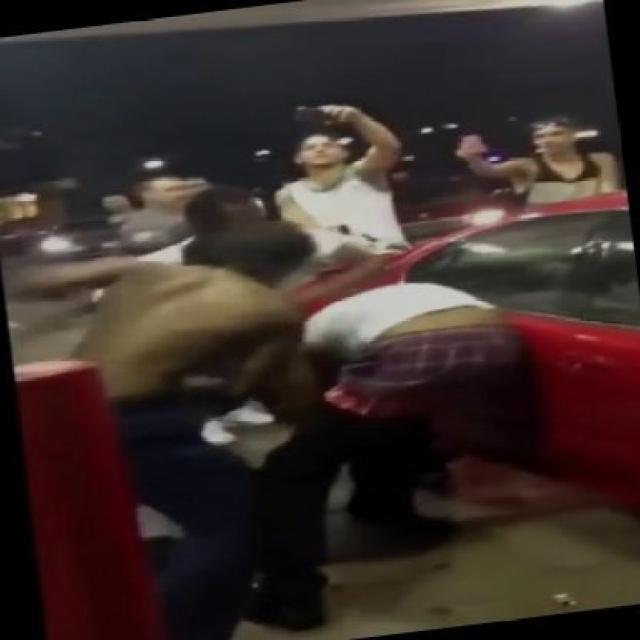fight: (0, 218, 541, 638)
non-fight: (249, 88, 422, 288)
